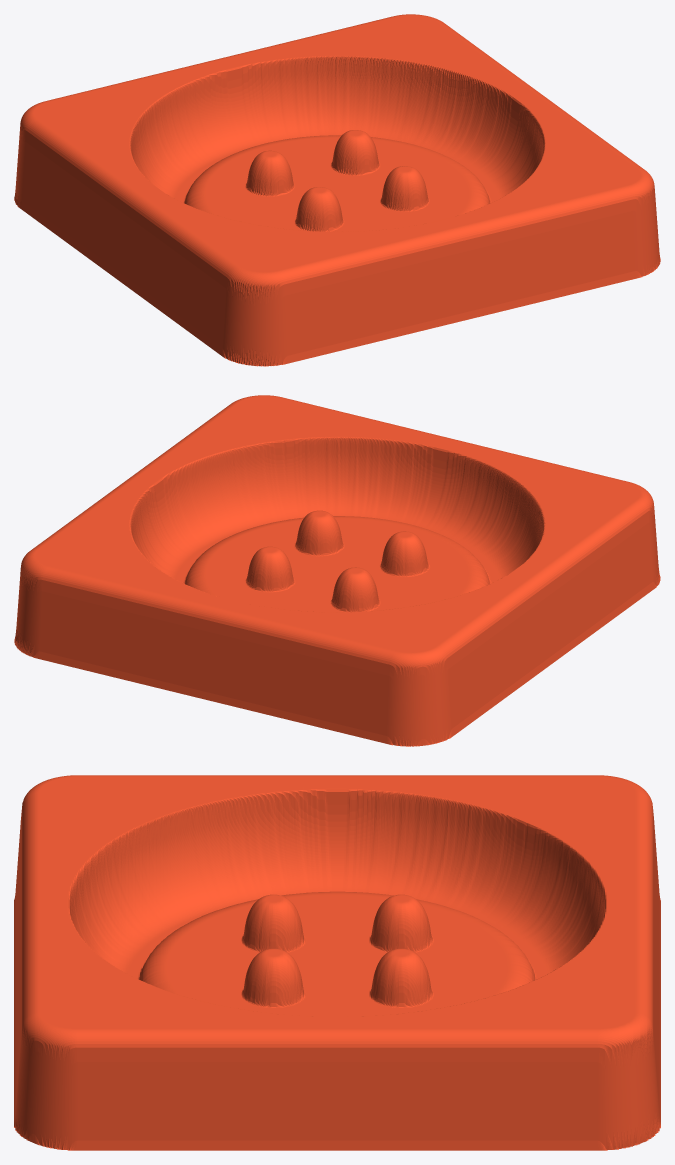
File: mold.glb
The picture shows the model from 3 angles, top to bottom: view 1: azimuth 30°, elevation 25°; view 2: azimuth 150°, elevation 25°; view 3: azimuth 270°, elevation 25°; orthographic projection. The views are drawn at different scales.
Visible parts, largest first — view 1: geometry_0; view 2: geometry_0; view 3: geometry_0.
Boxes of the visible parts, x1,y1,x2,y2 form: geometry_0: (14, 14, 660, 366); geometry_0: (14, 395, 660, 746); geometry_0: (14, 775, 660, 1150).
Size of the model in its own units: 0.0924 by 0.0175 by 0.0924.
